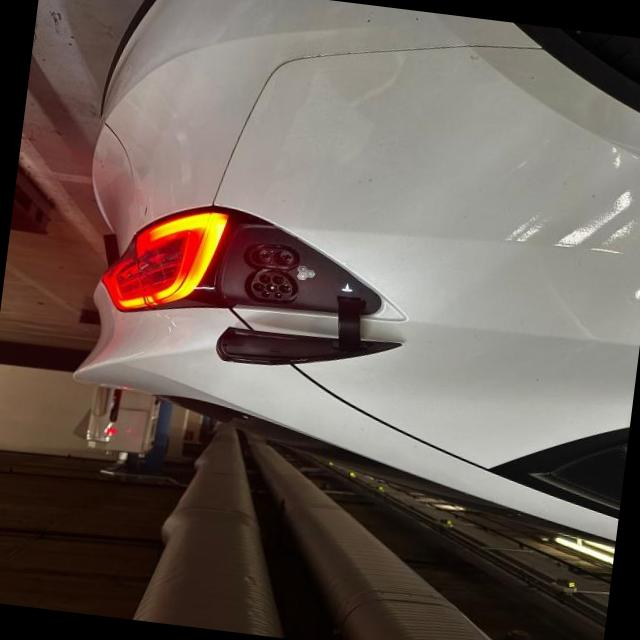inlet: (250, 271, 291, 299)
inlet-above-left: (273, 291, 281, 297)
inlet-above-right: (260, 290, 268, 296)
inlet-below-left: (271, 274, 283, 283)
inlet-below-right: (258, 273, 270, 282)
inlet-center: (265, 282, 277, 291)
inlet-center-left: (277, 283, 290, 292)
inlet-center-right: (251, 281, 263, 290)
